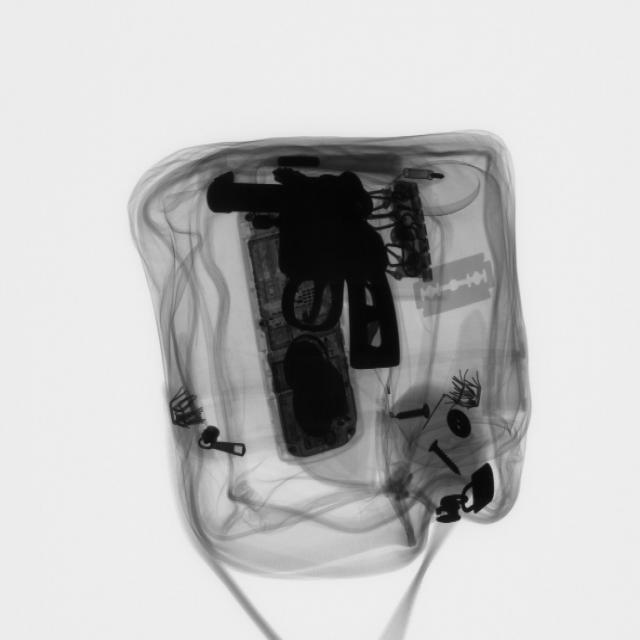BLADE: (408, 250, 504, 325)
GUN: (210, 165, 401, 383)
SCREW: (425, 436, 464, 481), (390, 401, 434, 428)
